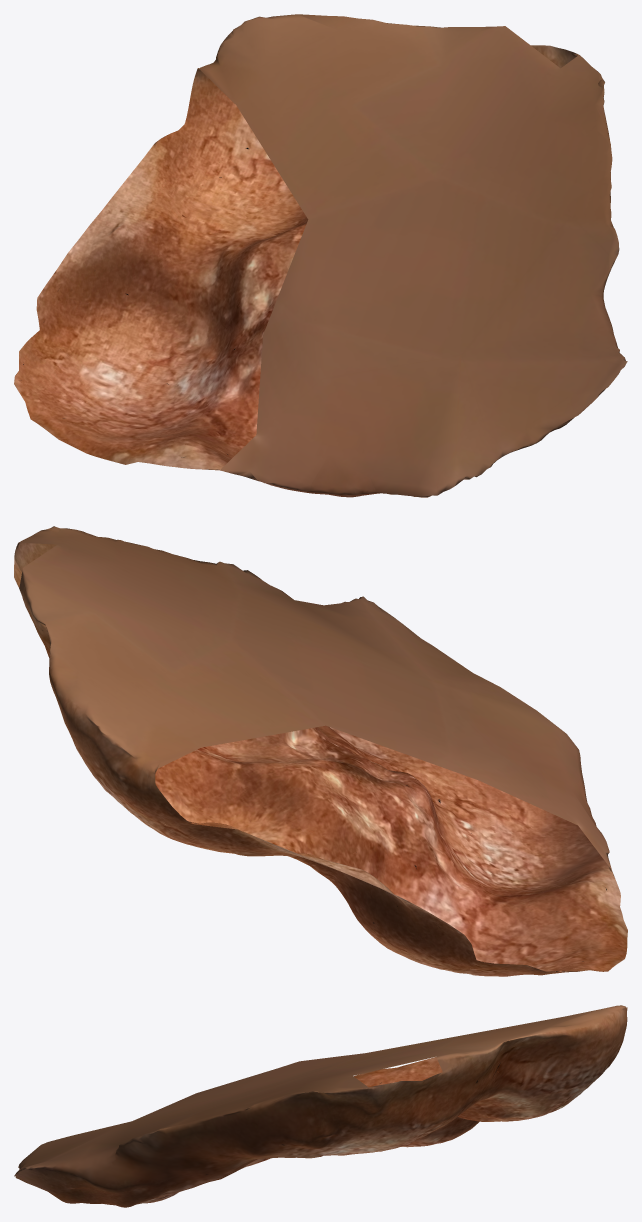
The model's file is baked_mesh.obj.
The picture shows the model from 3 angles, top to bottom: view 1: azimuth 30°, elevation 25°; view 2: azimuth 150°, elevation 25°; view 3: azimuth 270°, elevation 25°; orthographic projection. The views are drawn at different scales.
Parts seen in each view (by area): view 1: g0; view 2: g0; view 3: g0.
Boxes of the visible parts, x1,y1,x2,y2 form: g0: (14, 14, 627, 497); g0: (14, 526, 627, 976); g0: (14, 1005, 627, 1207).
Size of the model in its own units: 0.3019 by 0.15 by 0.3079.
1 material, 1 textured.
